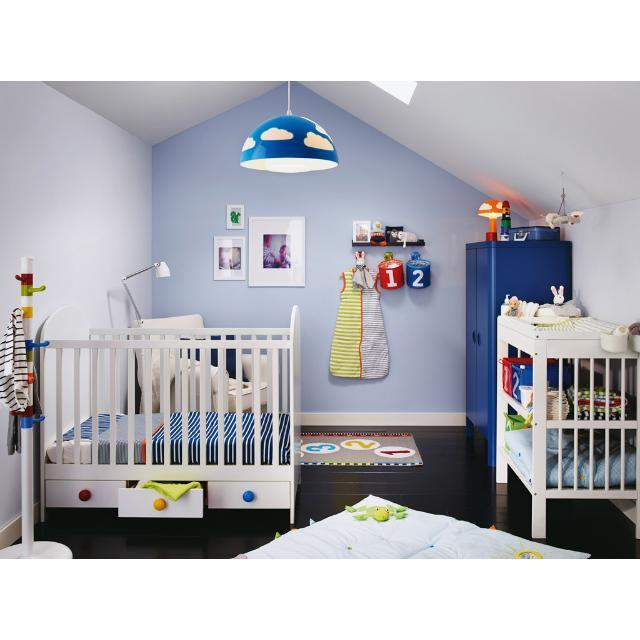dresser: (466, 241, 571, 466)
lamp: (121, 261, 170, 326)
light: (240, 84, 339, 173)
rug: (300, 432, 422, 465)
shelf: (496, 316, 640, 538)
wall-art: (249, 216, 305, 287), (214, 236, 245, 281), (226, 205, 245, 230)
